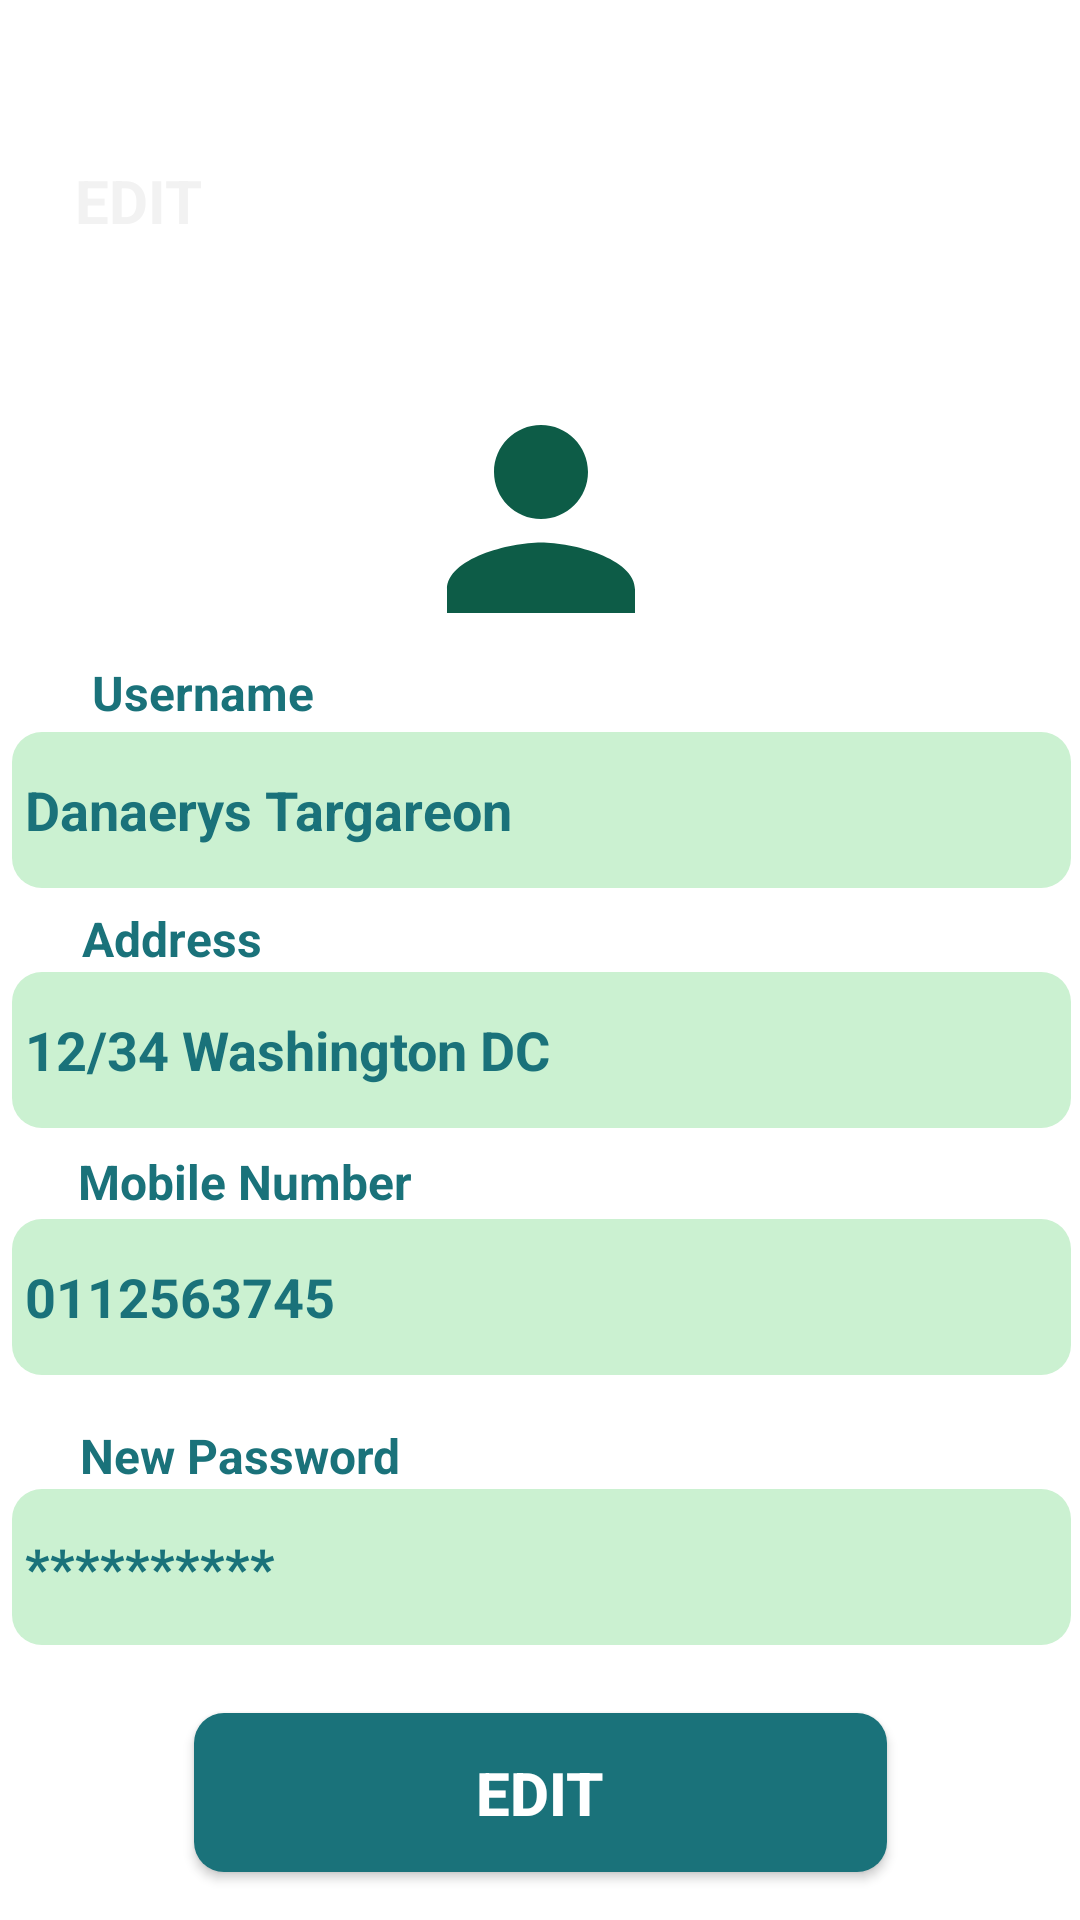

Where icons sit on this 1080×1920 app screen, as (x1, y1, x2, y2):
profile: (447, 425, 635, 613)
